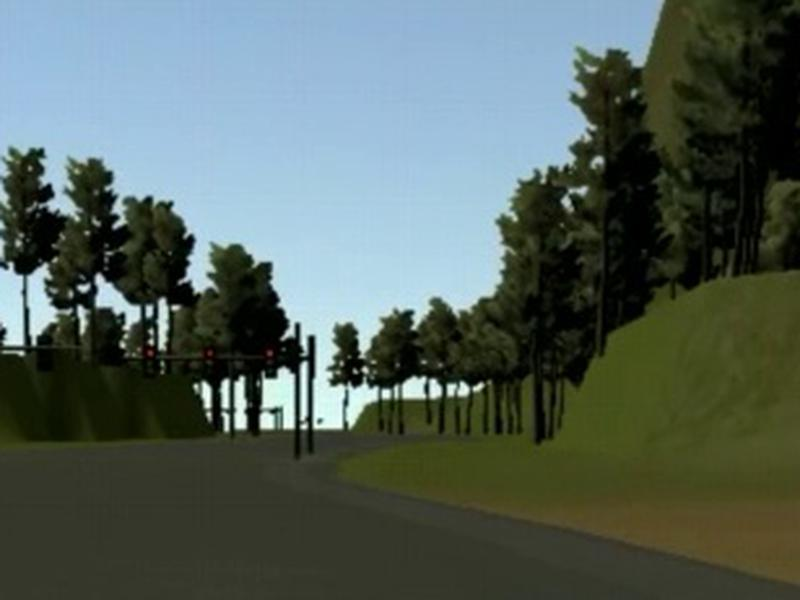Red: (203, 348, 216, 379), (143, 347, 156, 377), (265, 349, 278, 378)
